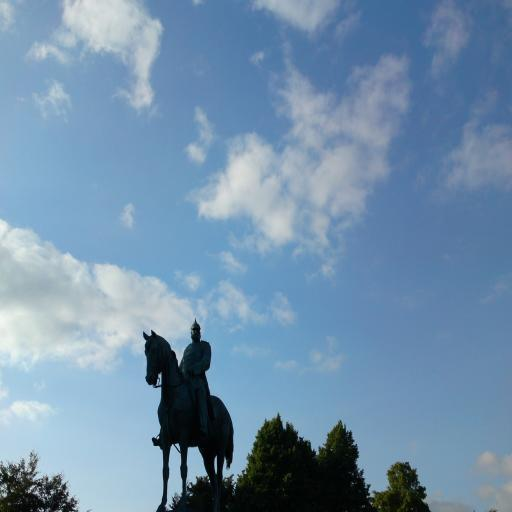horse: (144, 327, 235, 512)
